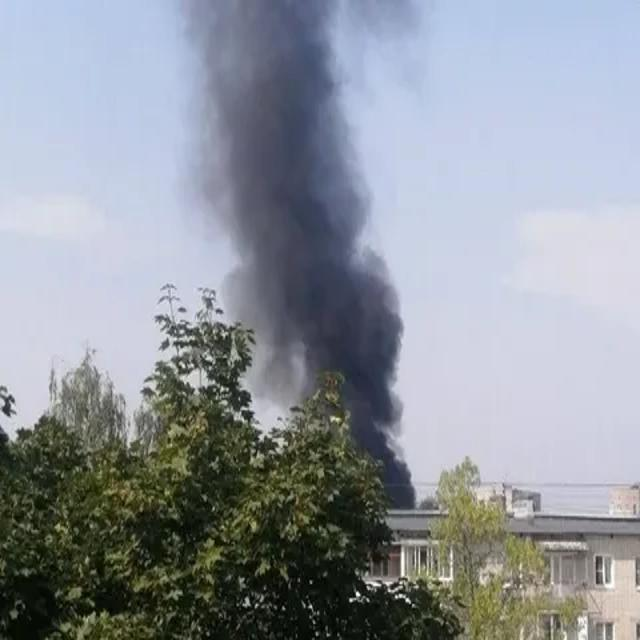Smoke: (182, 2, 424, 514)
